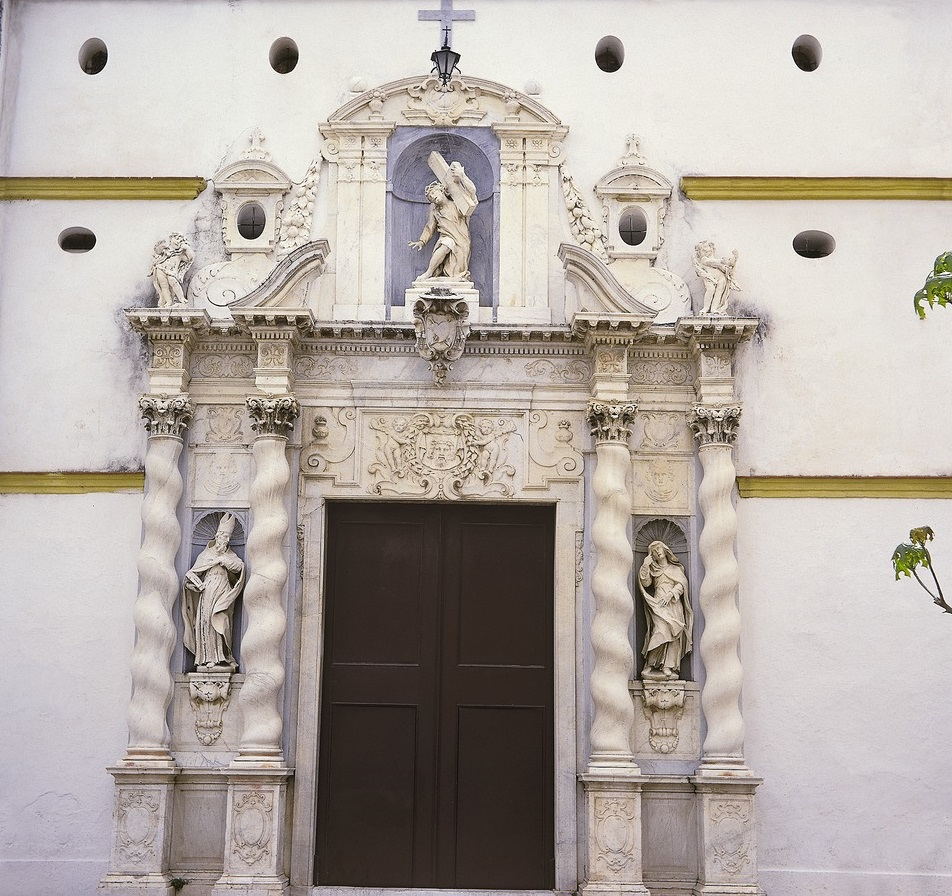columna-salomonica: (119, 417, 195, 762), (228, 423, 301, 763), (689, 429, 753, 774), (583, 425, 641, 770)
fronton-curvo: (213, 157, 293, 191), (590, 164, 673, 196)
fronton-partido: (229, 235, 663, 346), (314, 64, 569, 145)
vano-adintelado: (289, 464, 590, 894)
